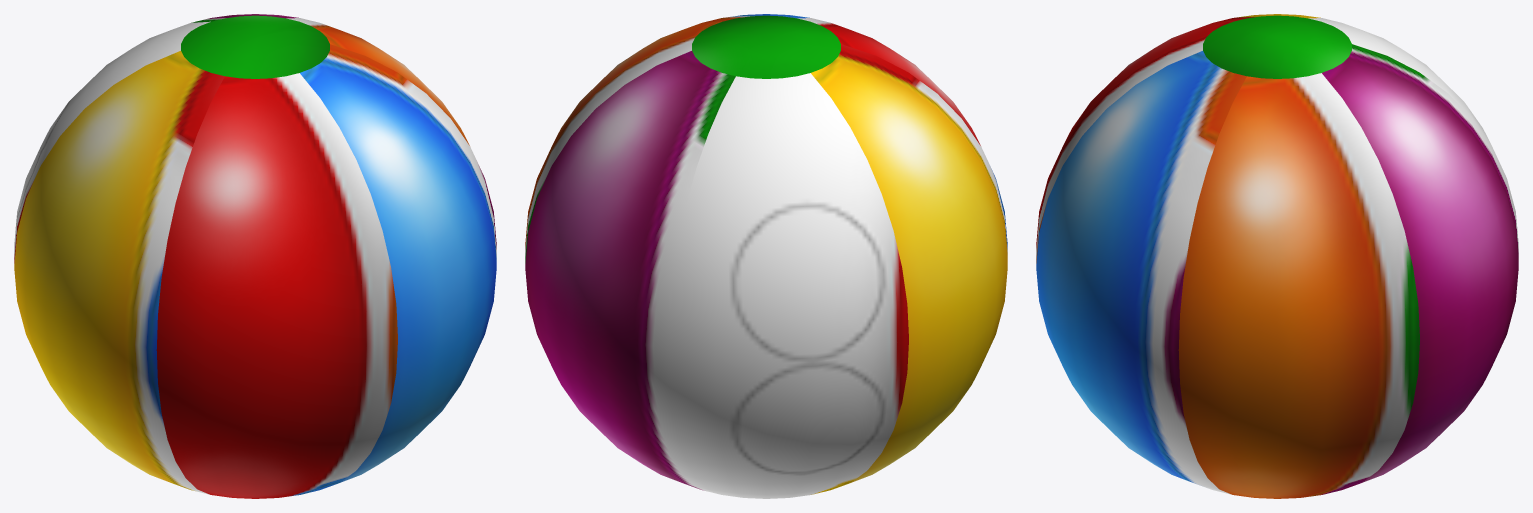
The model's file is BeachBall.obj.
3 views of the same model, side by side, from view 1: azimuth 30°, elevation 25°; view 2: azimuth 150°, elevation 25°; view 3: azimuth 270°, elevation 25° (orthographic).
Visible parts, largest first — view 1: BeachBall; view 2: BeachBall; view 3: BeachBall.
Boxes of the visible parts, left/top/right/bottom form: BeachBall: left=14, top=14, right=496, bottom=498; BeachBall: left=525, top=14, right=1007, bottom=498; BeachBall: left=1036, top=14, right=1518, bottom=498.
Size of the model in its own units: 2.2 by 2.2 by 2.19.
1 material, 1 textured.
